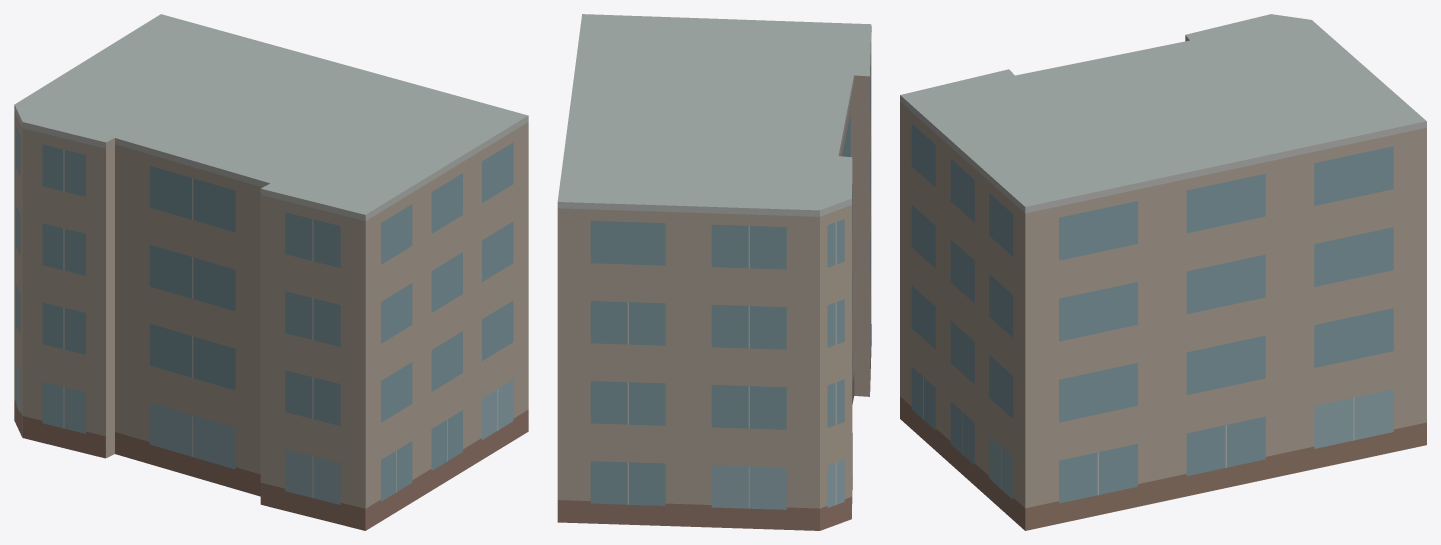
The model's file is survey-upis-32687554.glb.
3 views of the same model, side by side, from view 1: azimuth 30°, elevation 25°; view 2: azimuth 150°, elevation 25°; view 3: azimuth 270°, elevation 25° (orthographic). The views are drawn at different scales.
Parts seen in each view (by area): view 1: survey-upis-32687554.tmp; view 2: survey-upis-32687554.tmp; view 3: survey-upis-32687554.tmp.
Part boxes in pixels (box(x1,y1,x2,y2)): survey-upis-32687554.tmp: box(14, 14, 528, 530); survey-upis-32687554.tmp: box(557, 14, 871, 530); survey-upis-32687554.tmp: box(900, 14, 1426, 530).
Size of the model in its own units: 15.61 by 12.2 by 17.99.
